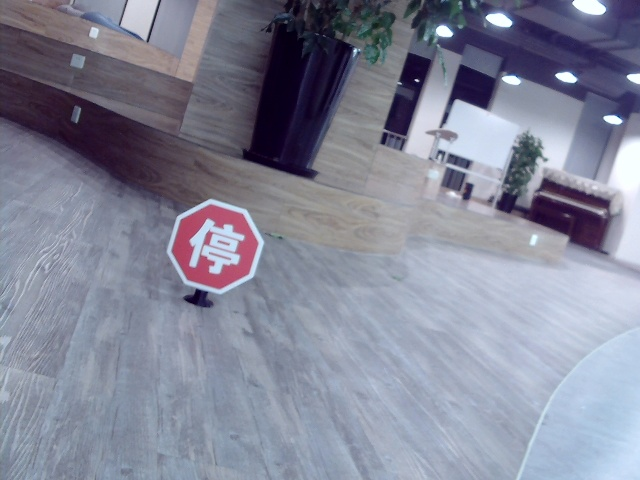stop: (187, 216, 243, 276)
